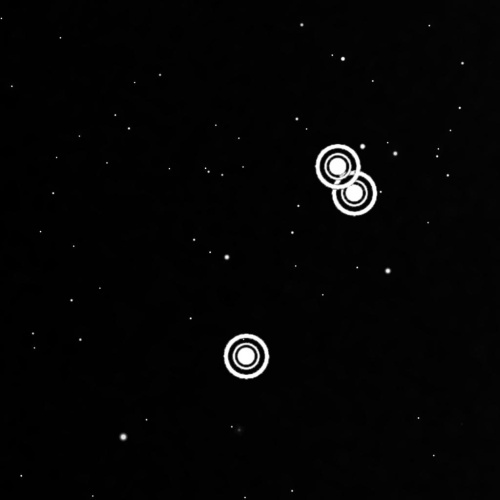canis_minor: (213, 130, 390, 389)
